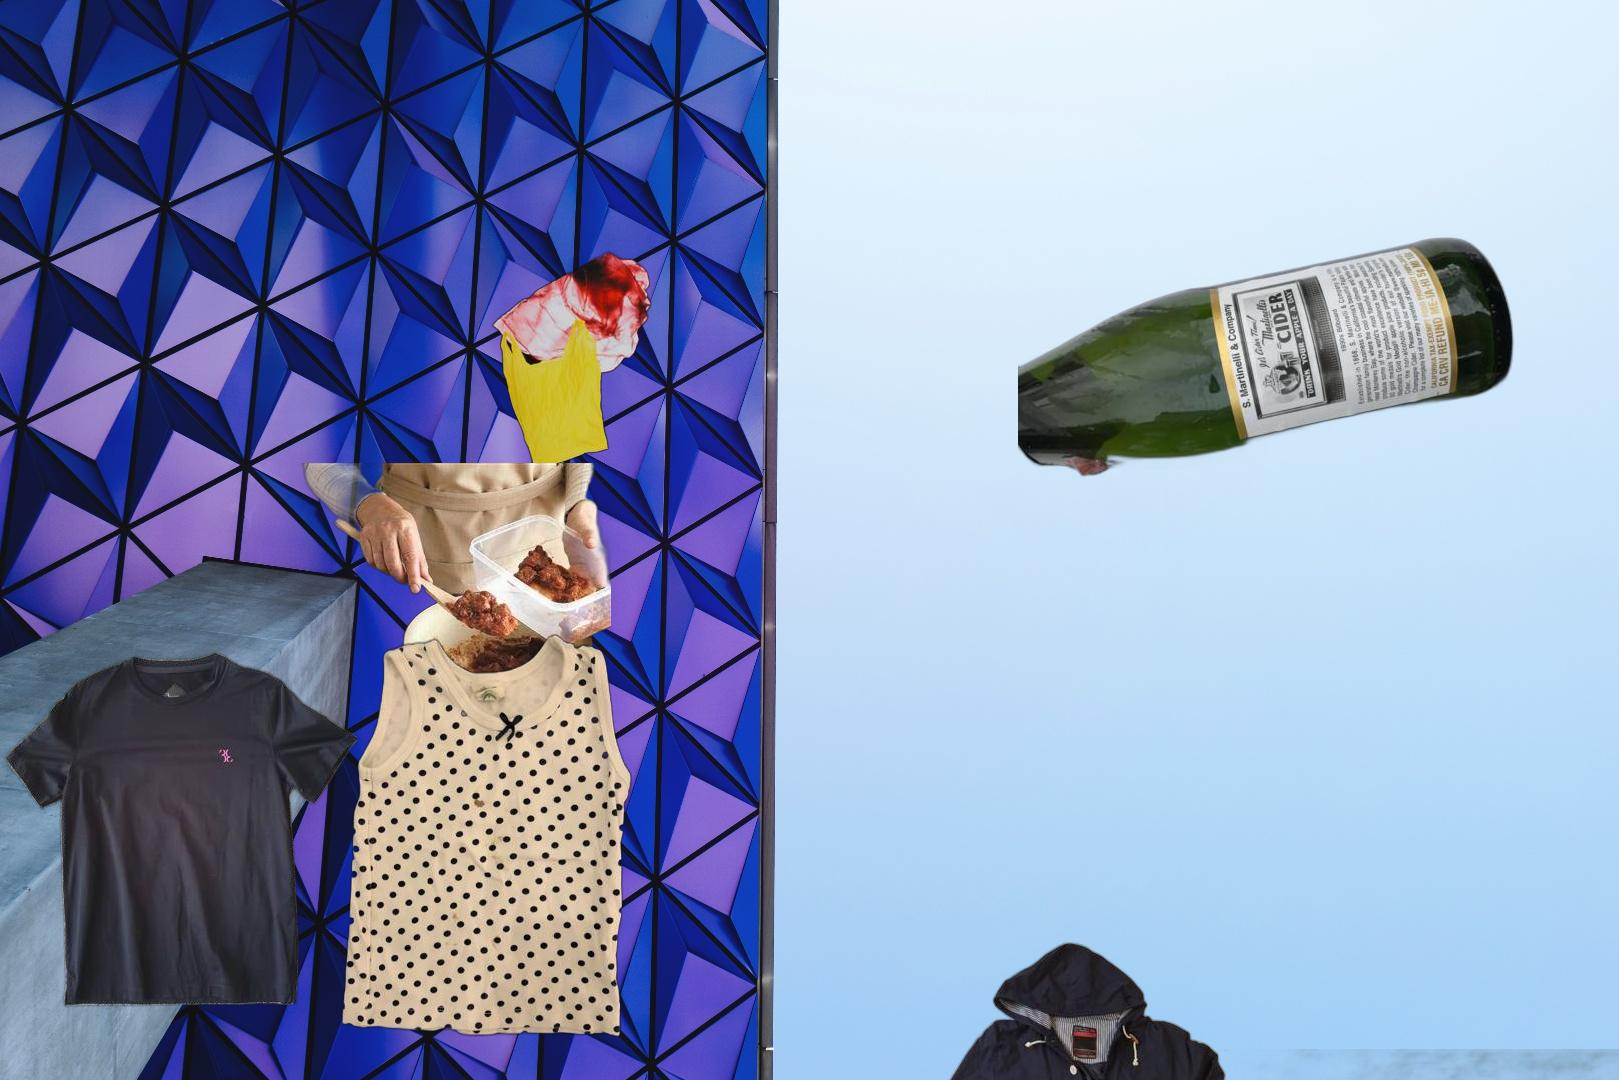biological: (297, 463, 611, 756)
clothes: (274, 560, 634, 1080), (3, 648, 361, 1011), (889, 940, 1270, 1080)
glass: (1018, 234, 1518, 478)
paper: (1561, 1069, 1619, 1080)
plastic-bag: (491, 248, 653, 477)
trashbox-cardboard: (1224, 1049, 1619, 1080)
